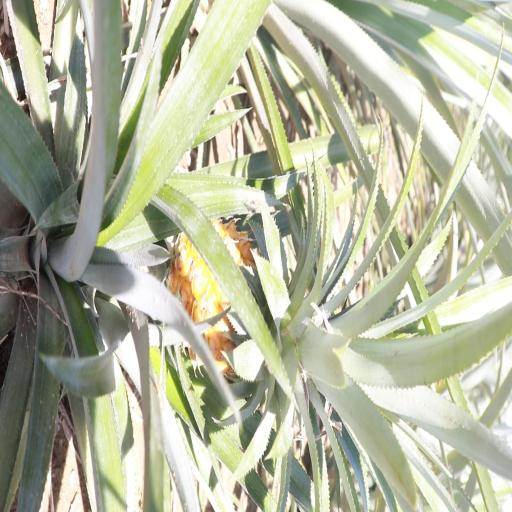Pineapple - v8 v1: (174, 215, 404, 395)
